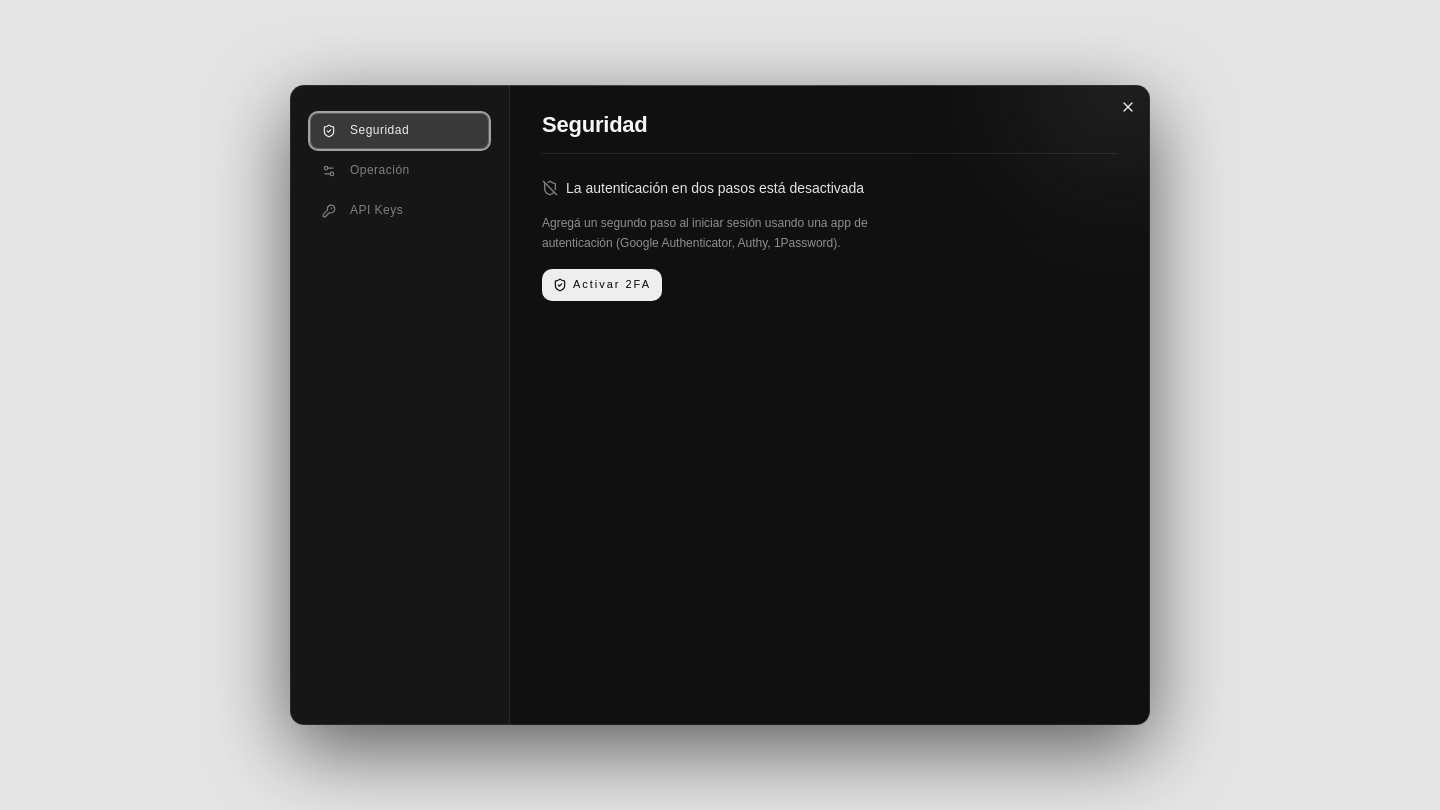
Test: SettingsDialog › cancel editing exits the expanded state
Check: the heading "Seguridad" is shown, box [542,112,648,137]
Click the tab "Operación": [400, 171] box [310,153,489,189]
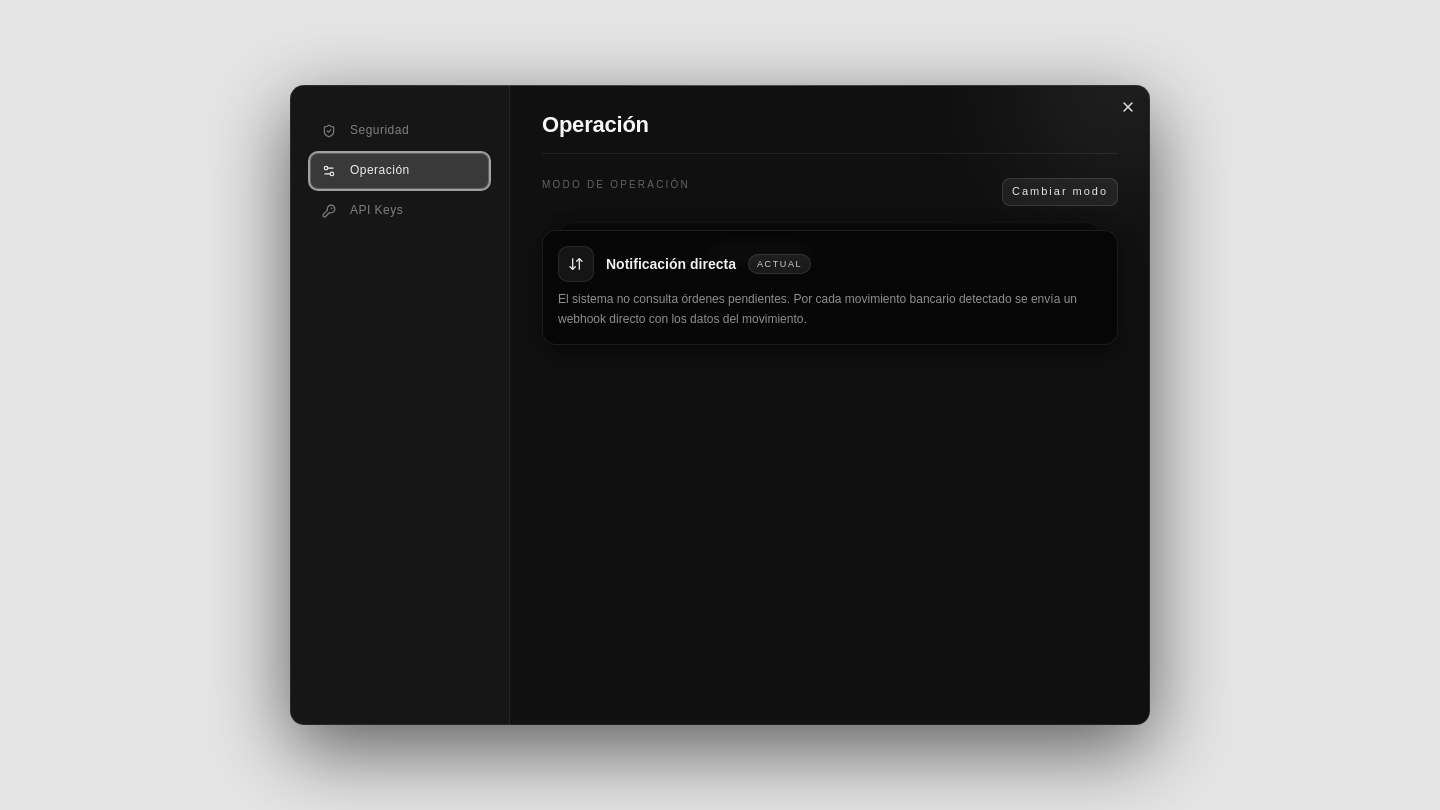
Click the button "Cambiar modo": [1060, 192] box [1002,178,1118,206]
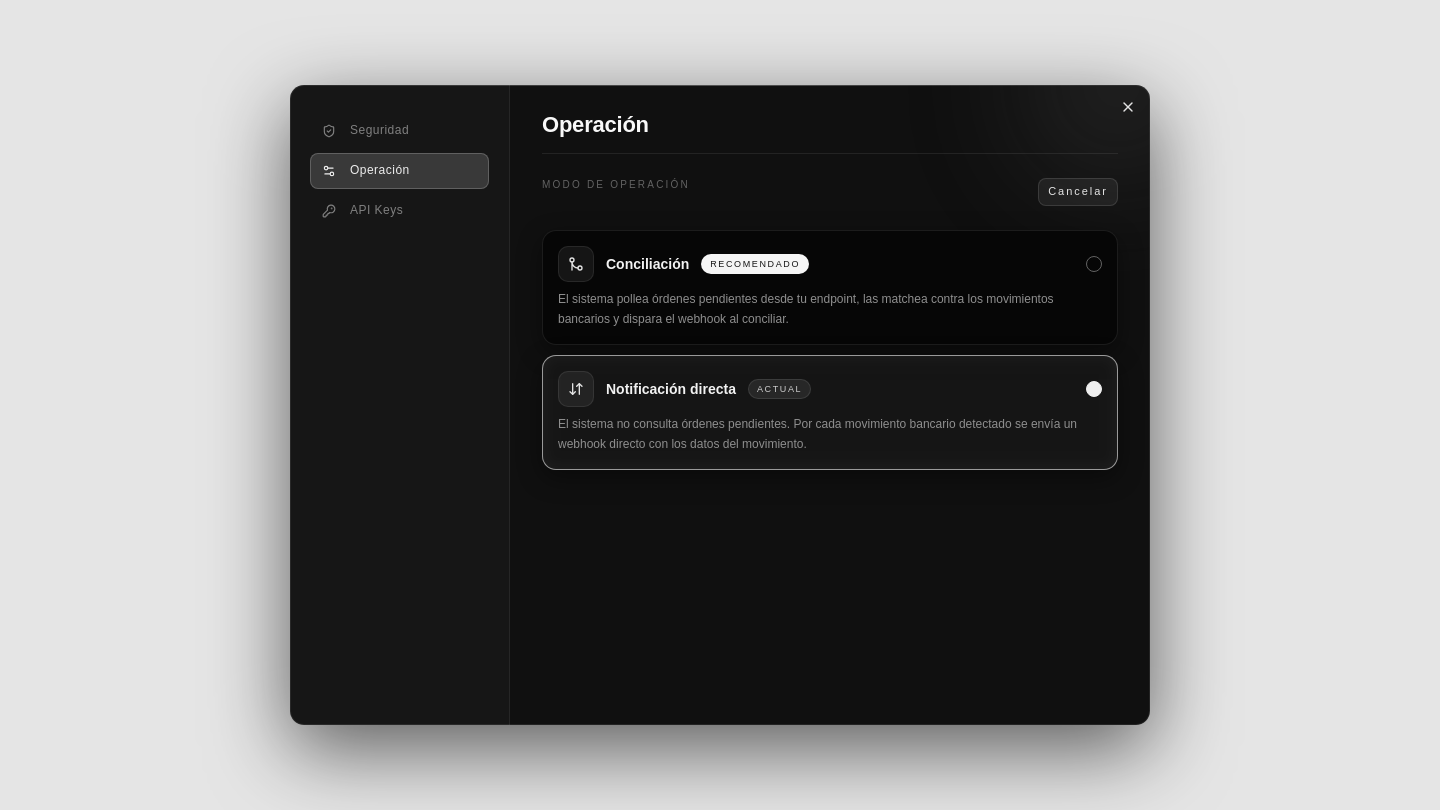
Check: the button "Cancelar" is shown
Click the button "Cancelar": [1078, 192] box [1038,178,1118,206]
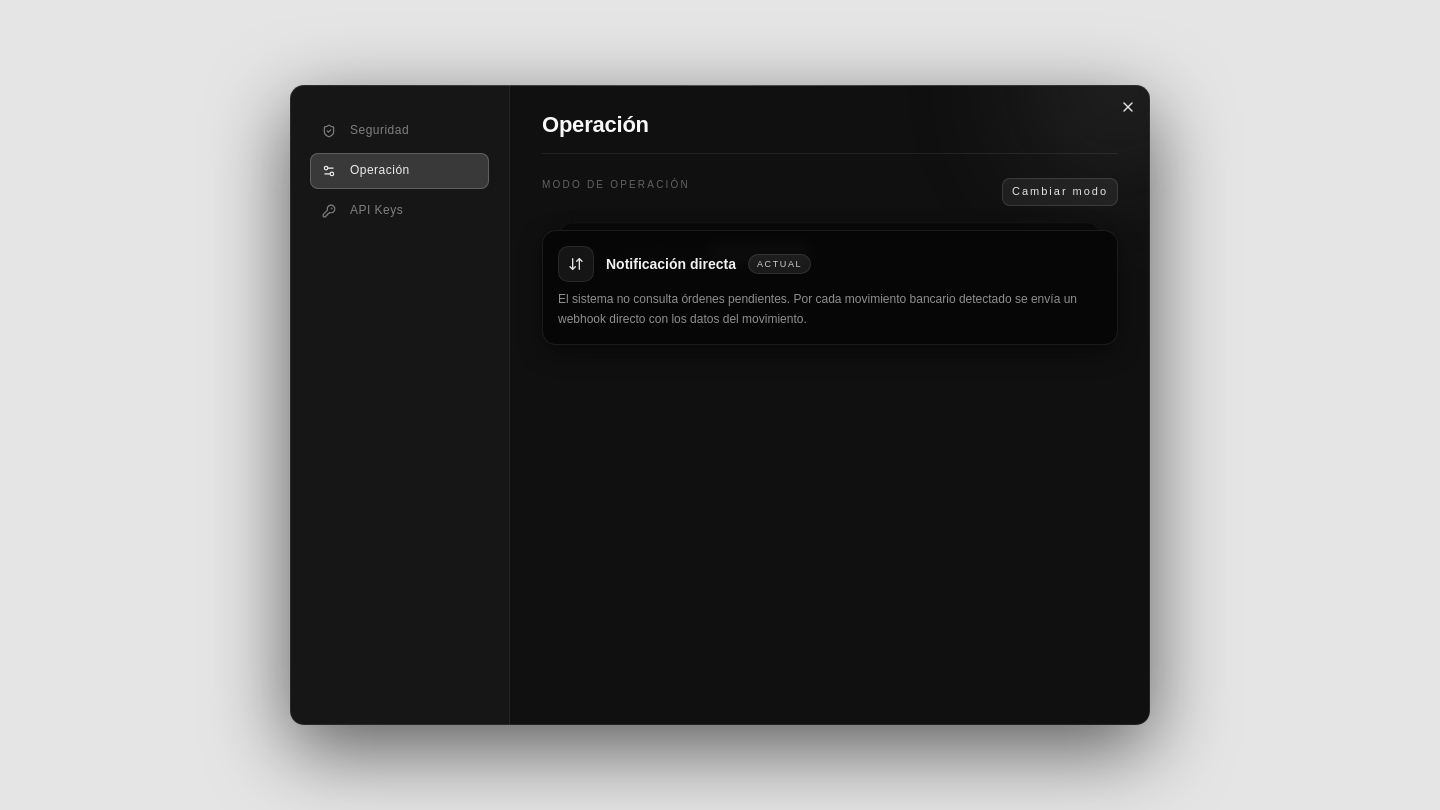
Check: the button "Cambiar modo" is shown, box [1002,178,1118,206]
